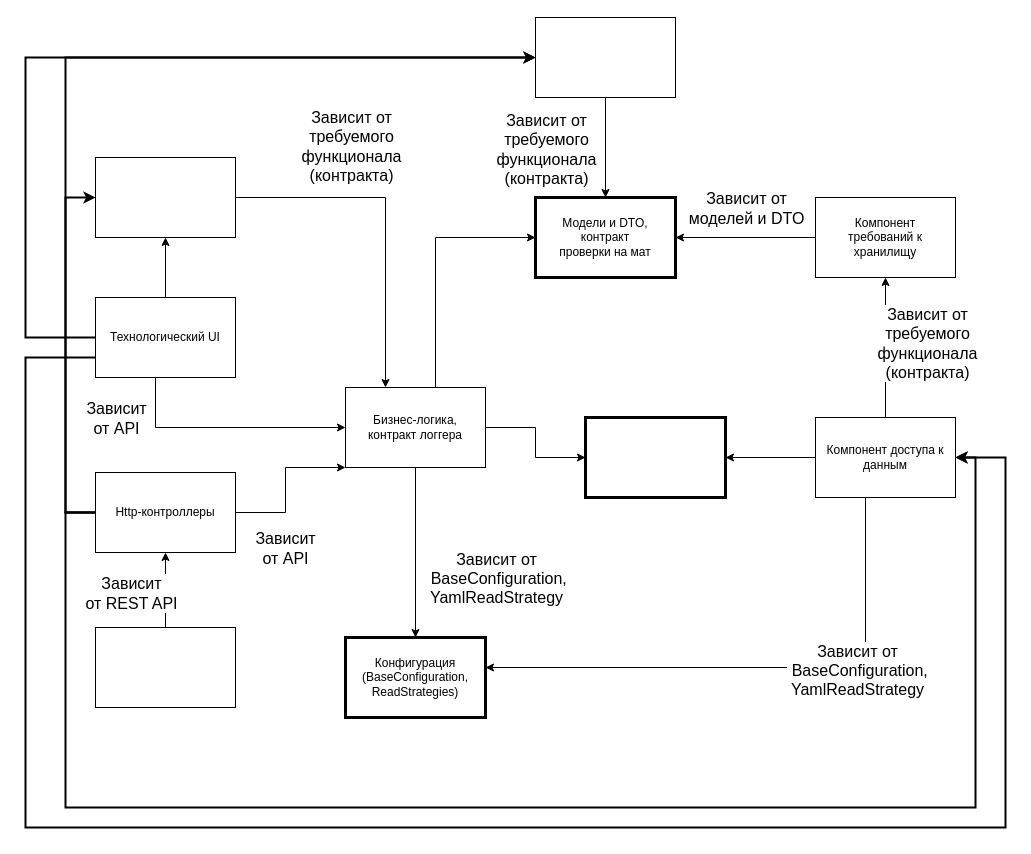
Image size: 1031x854. Some labels were removed from this diagram. Each missing label, with the box of its shape:
UI (фронт + rest api): (94, 626, 236, 708)
Исключения: (584, 416, 726, 498)
Компонент логирования: (94, 156, 236, 238)
Компонент проверки на мат: (534, 16, 676, 98)
